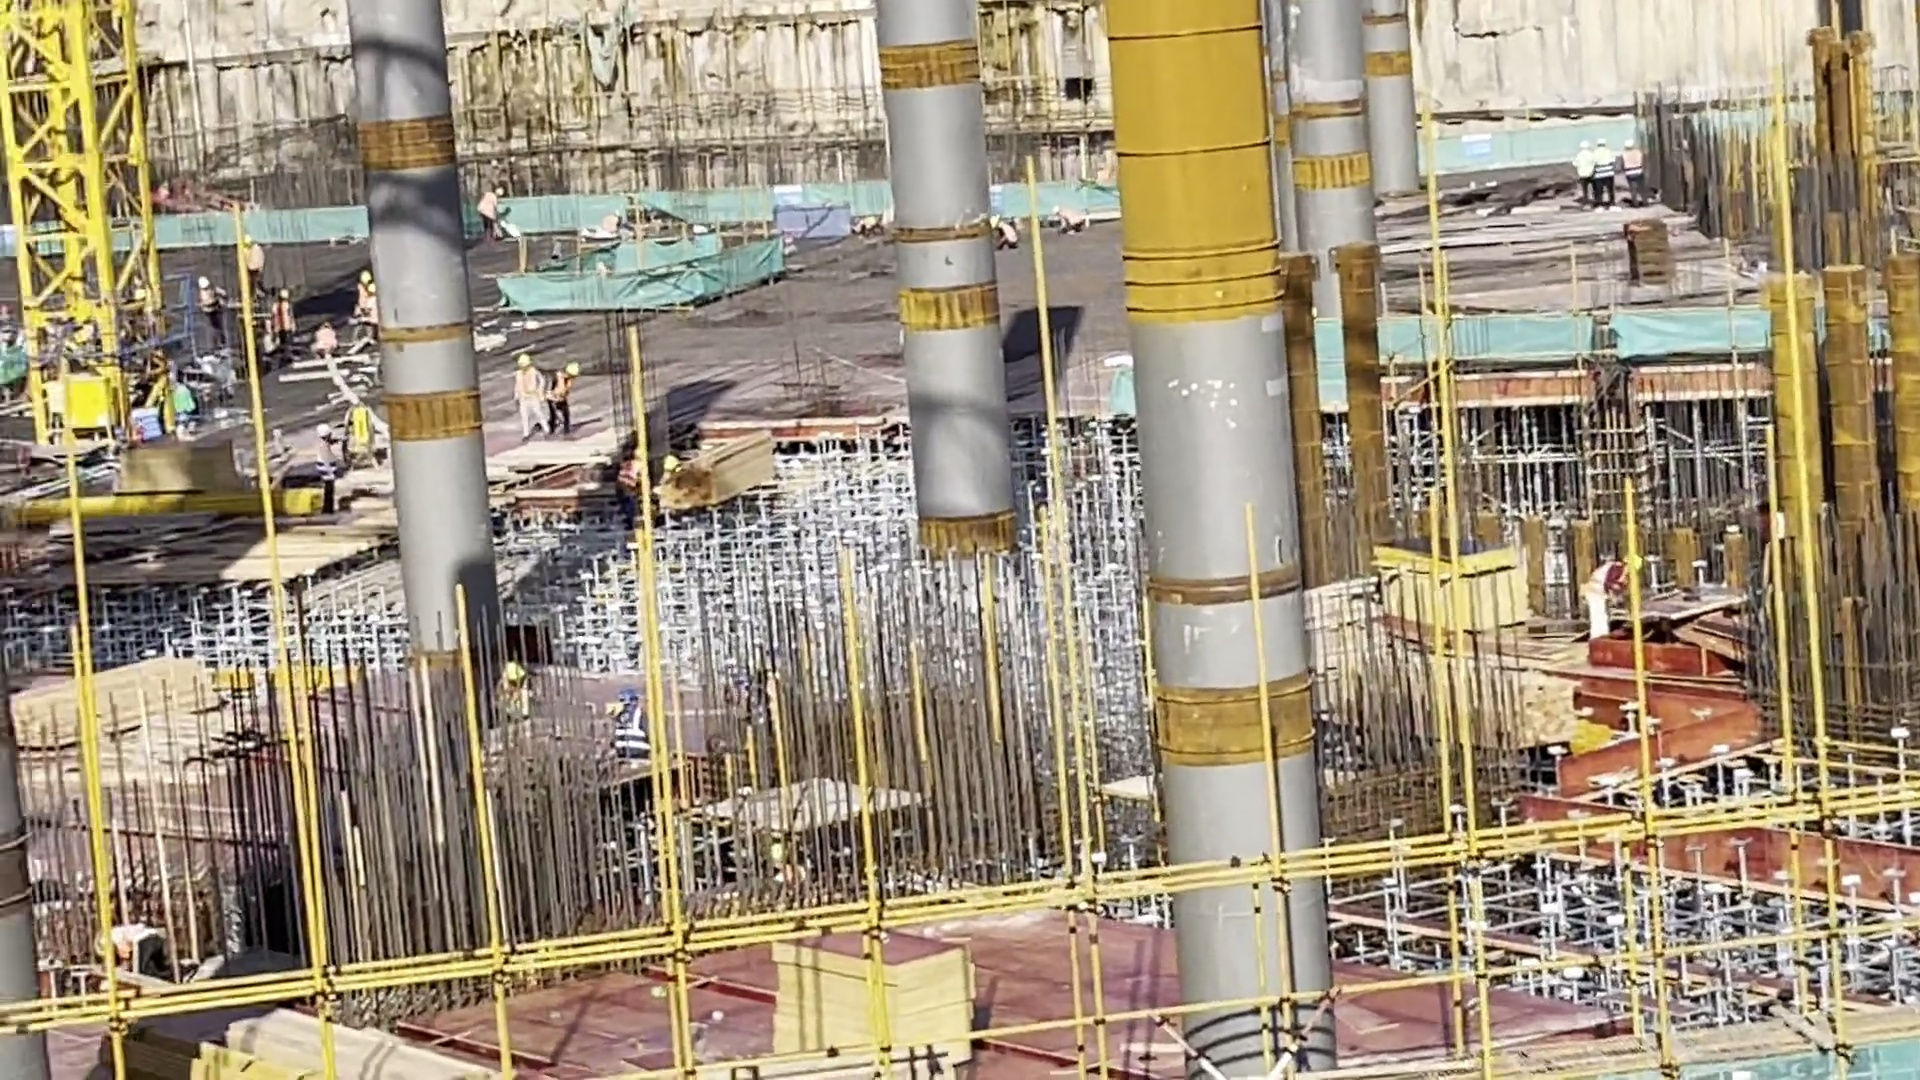ebox: (57, 375, 120, 448)
helmet: (199, 266, 215, 299), (618, 689, 642, 710), (1626, 553, 1646, 573), (237, 223, 255, 247), (353, 269, 374, 287), (503, 663, 526, 678), (275, 286, 293, 306), (559, 364, 580, 380), (1618, 135, 1640, 149), (488, 178, 508, 194), (513, 354, 539, 365), (1596, 130, 1608, 149), (320, 424, 334, 439), (1577, 133, 1586, 147)
person: (1583, 549, 1643, 636), (504, 345, 546, 438), (615, 687, 648, 764), (267, 280, 302, 344), (494, 662, 538, 713), (348, 269, 384, 326), (192, 270, 229, 324), (1620, 139, 1650, 203), (550, 365, 580, 425), (477, 184, 510, 239), (1566, 133, 1592, 200), (233, 227, 268, 276), (316, 426, 335, 514), (987, 214, 1026, 254), (1600, 127, 1615, 206), (1054, 203, 1088, 236), (311, 320, 340, 355)
vest: (1590, 557, 1625, 601), (618, 712, 644, 746), (1626, 153, 1645, 178), (515, 372, 534, 396), (553, 383, 569, 400), (1577, 160, 1591, 177), (320, 453, 332, 468), (1598, 155, 1609, 172), (998, 228, 1013, 239), (1067, 216, 1076, 221)
wood: (657, 428, 776, 515)
